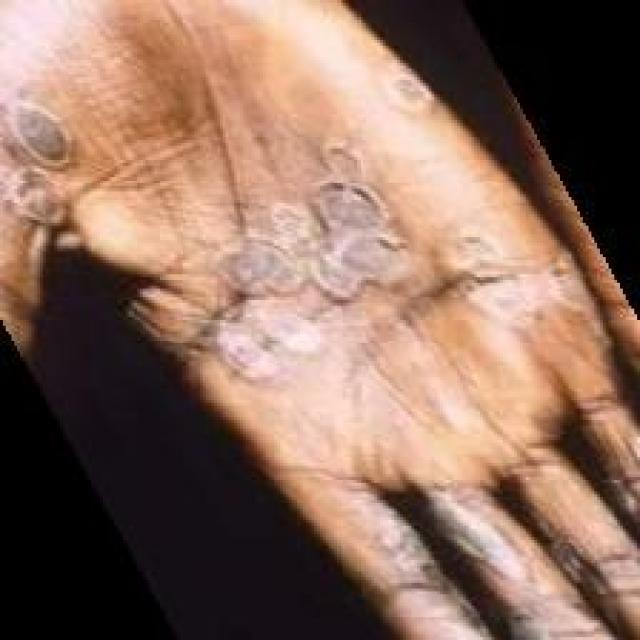monkeypox: (3, 0, 638, 640)
